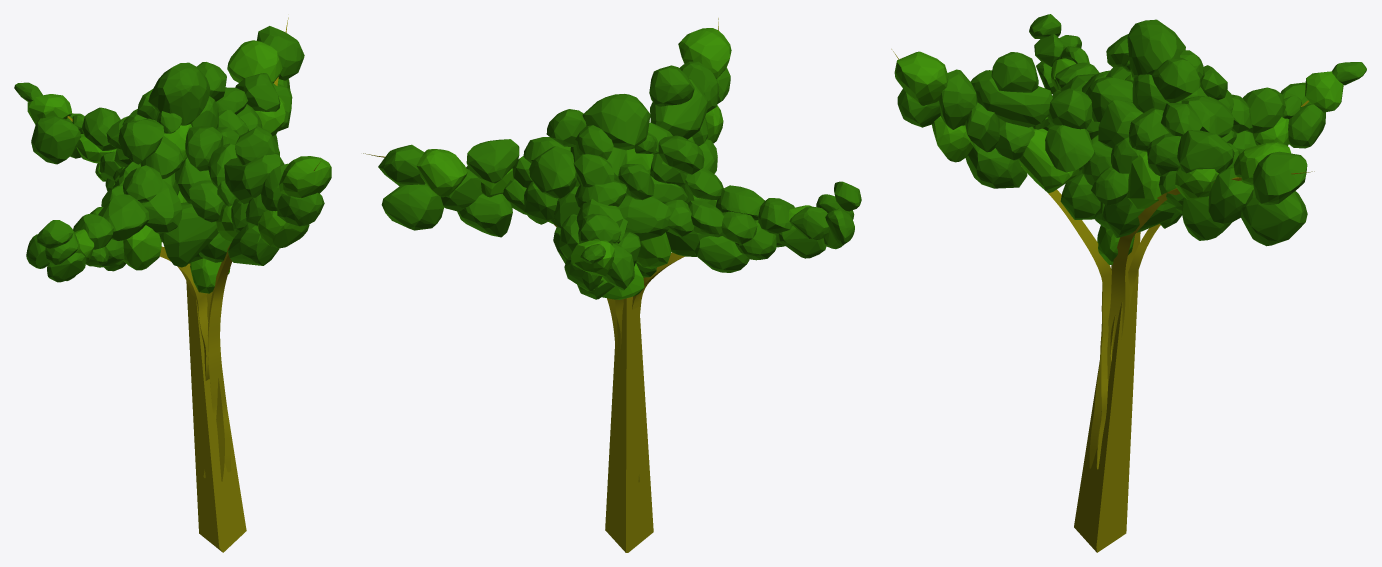
3 renders of one model, left to right at view 1: azimuth 30°, elevation 25°; view 2: azimuth 150°, elevation 25°; view 3: azimuth 270°, elevation 25°, orthographic. The views are drawn at different scales.
Parts seen in each view (by area): view 1: brush_MatteHull_g0_b0, brush_Spikes_g0_b0; view 2: brush_MatteHull_g0_b0, brush_Spikes_g0_b0; view 3: brush_MatteHull_g0_b0, brush_Spikes_g0_b0.
Boxes of the visible parts, <box> form: brush_MatteHull_g0_b0: <box>14,26,331,293</box>; brush_Spikes_g0_b0: <box>67,17,320,552</box>; brush_MatteHull_g0_b0: <box>378,28,861,299</box>; brush_Spikes_g0_b0: <box>363,18,718,552</box>; brush_MatteHull_g0_b0: <box>894,14,1366,264</box>; brush_Spikes_g0_b0: <box>891,49,1314,552</box>.
Bounding box in the file's own units: 0.3094 × 0.3757 × 0.3124.
